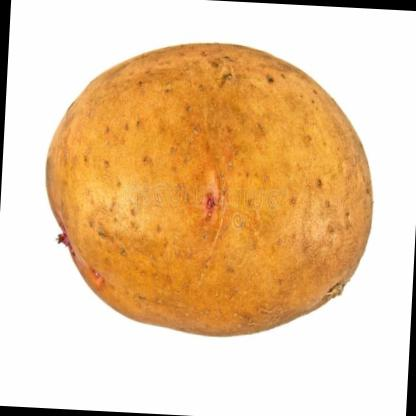potato: (36, 33, 383, 347)
